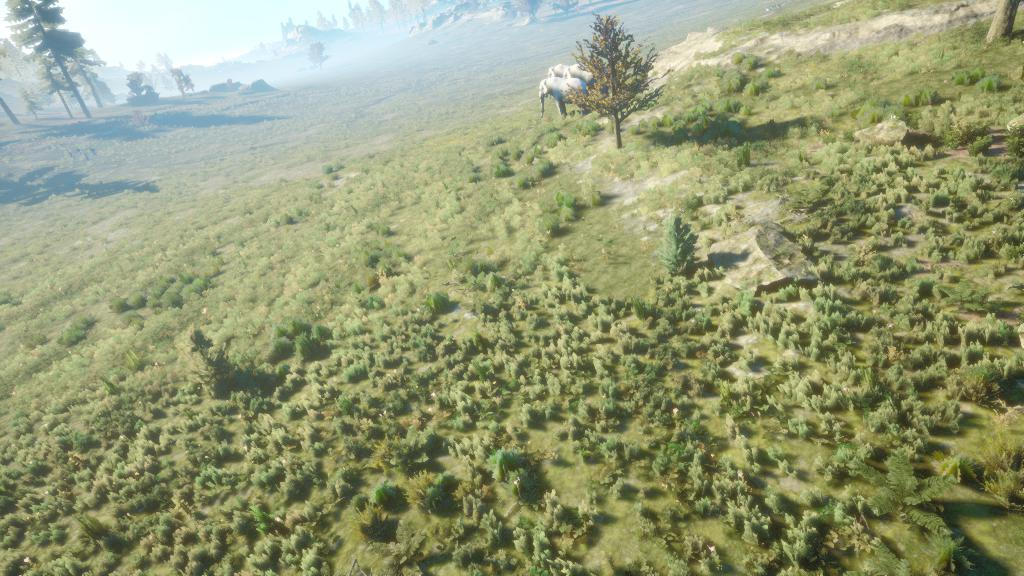elephant: (532, 76, 598, 124), (540, 63, 606, 97)
